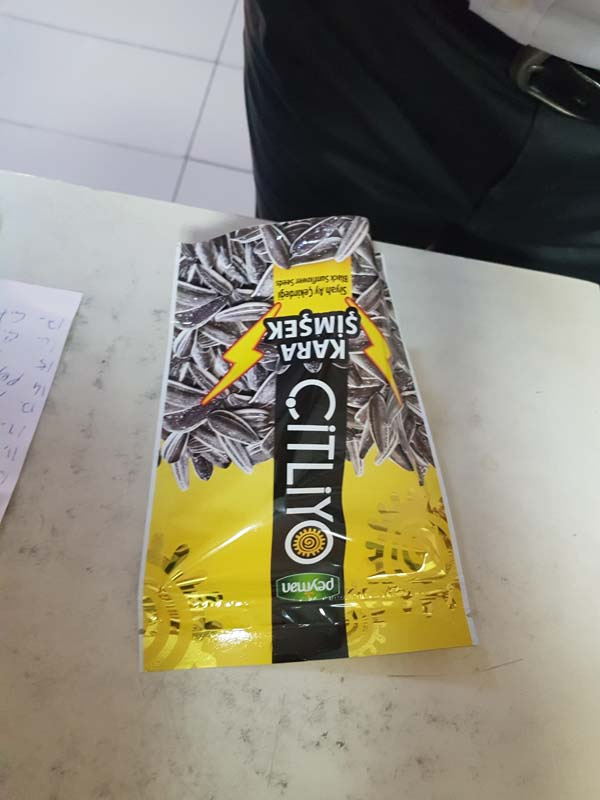citliyokarasimsek: (133, 210, 506, 666)
